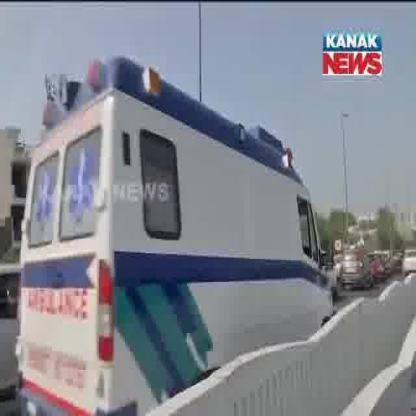priority: (22, 54, 334, 416)
